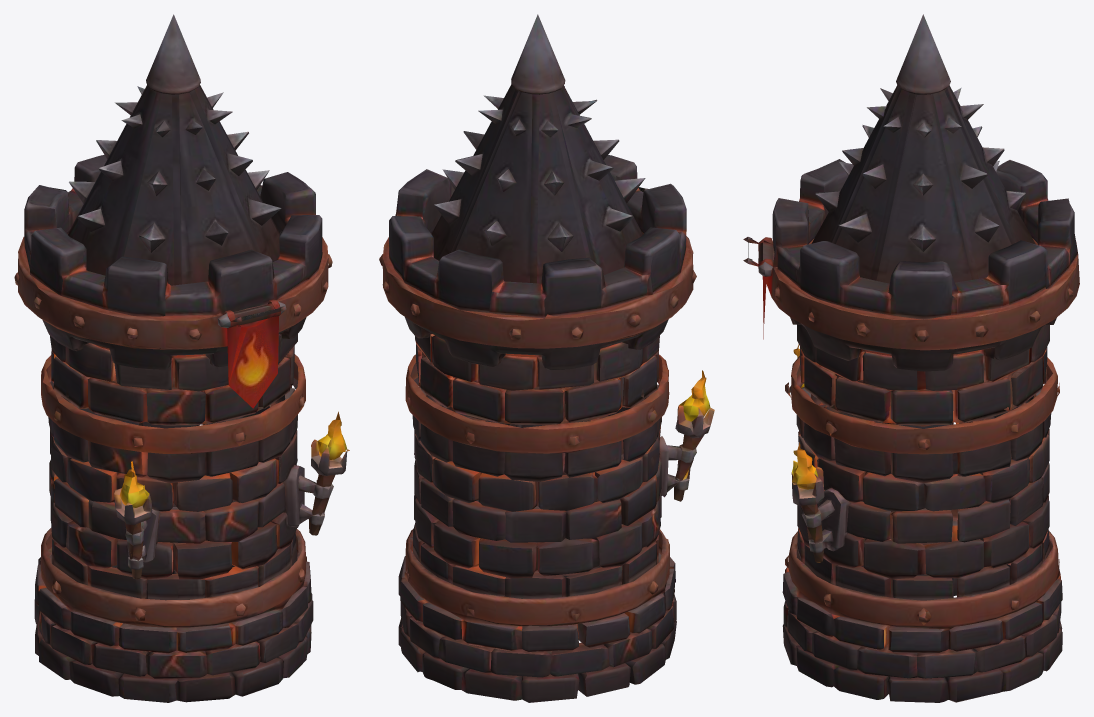
File: volcan_torre2.glb
3 renders of one model, left to right at view 1: azimuth 30°, elevation 25°; view 2: azimuth 150°, elevation 25°; view 3: azimuth 270°, elevation 25°, orthographic.
Parts seen in each view (by area): view 1: tripo_node_612f051d-7100-4726-97bf-b9dcb1e78538; view 2: tripo_node_612f051d-7100-4726-97bf-b9dcb1e78538; view 3: tripo_node_612f051d-7100-4726-97bf-b9dcb1e78538.
Boxes of the visible parts, x1,y1,x2,y2 form: tripo_node_612f051d-7100-4726-97bf-b9dcb1e78538: (14, 14, 349, 702); tripo_node_612f051d-7100-4726-97bf-b9dcb1e78538: (379, 14, 714, 702); tripo_node_612f051d-7100-4726-97bf-b9dcb1e78538: (743, 14, 1079, 702).
Bounding box in the file's own units: 0.4585 × 0.9976 × 0.481.
1 material, 1 textured.
